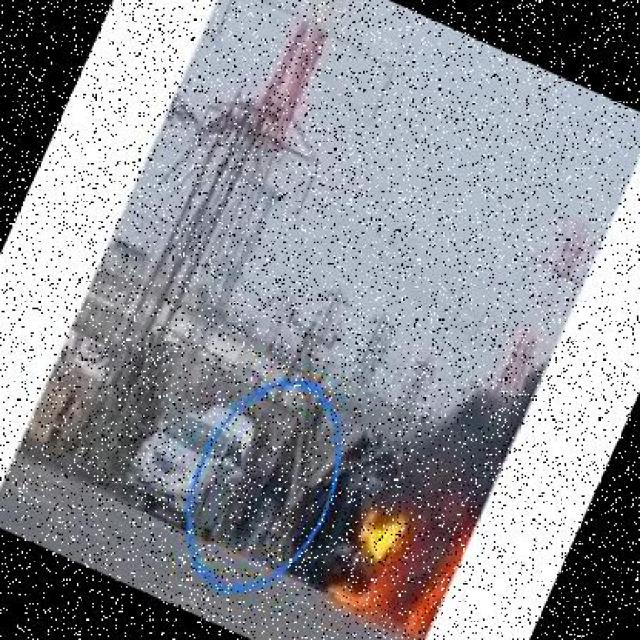fire: (319, 456, 483, 638)
